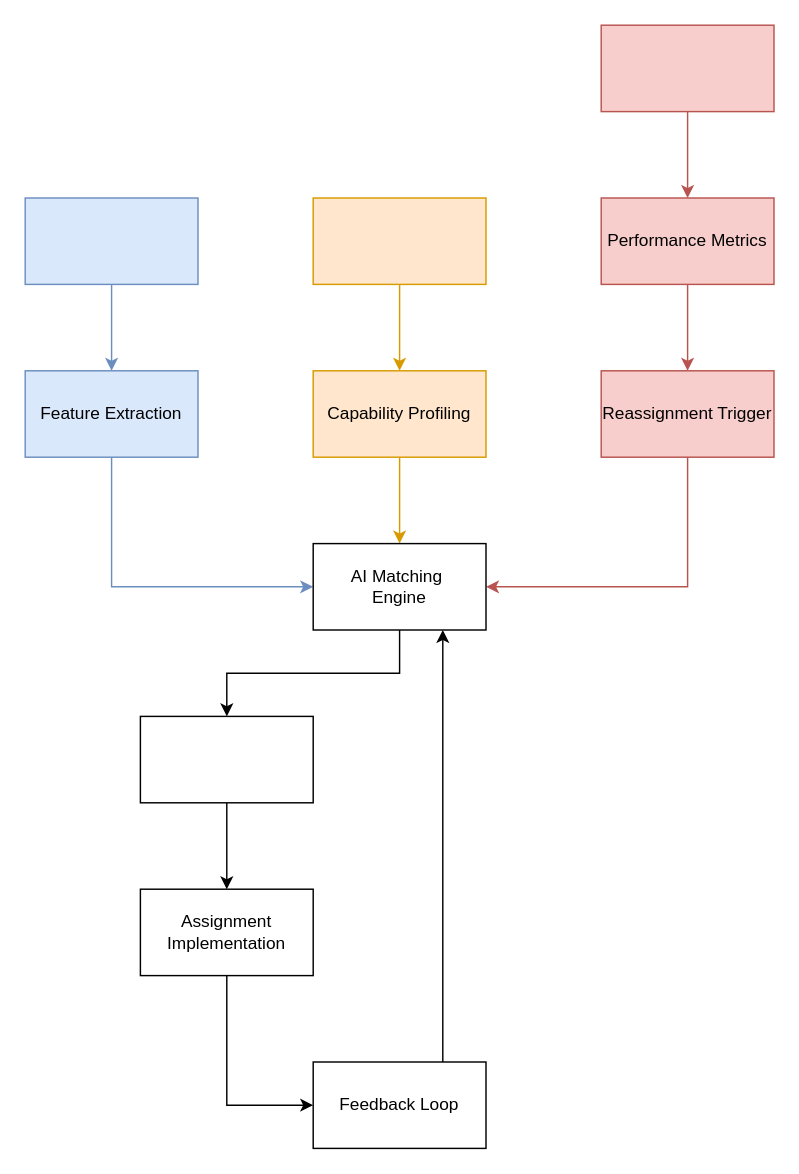
Image size: 799x1174. Some labels were removed from this diagram. Each missing label, with the centre of its shape:
"Assignment Generator" goes at point 226,759.
"Dataset Analyzer" goes at point 111,240.
"Datastore Analyzer" goes at point 399,240.
"Monitoring Service" goes at point 687,68.
